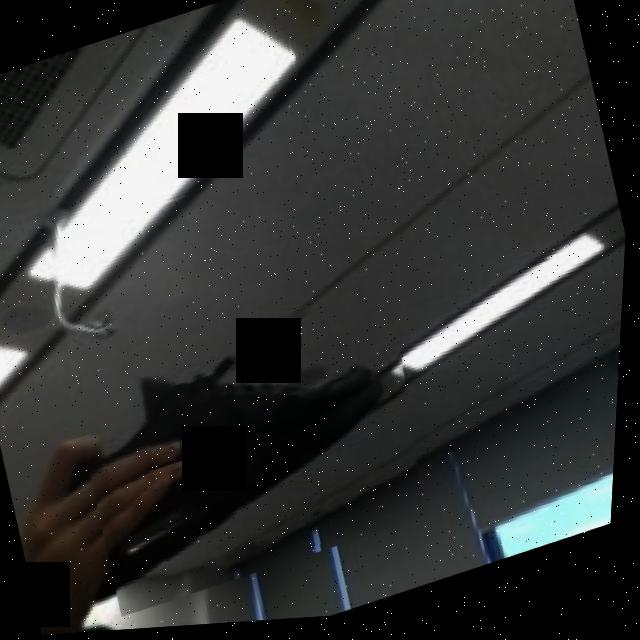shoe: (65, 281, 457, 622)
